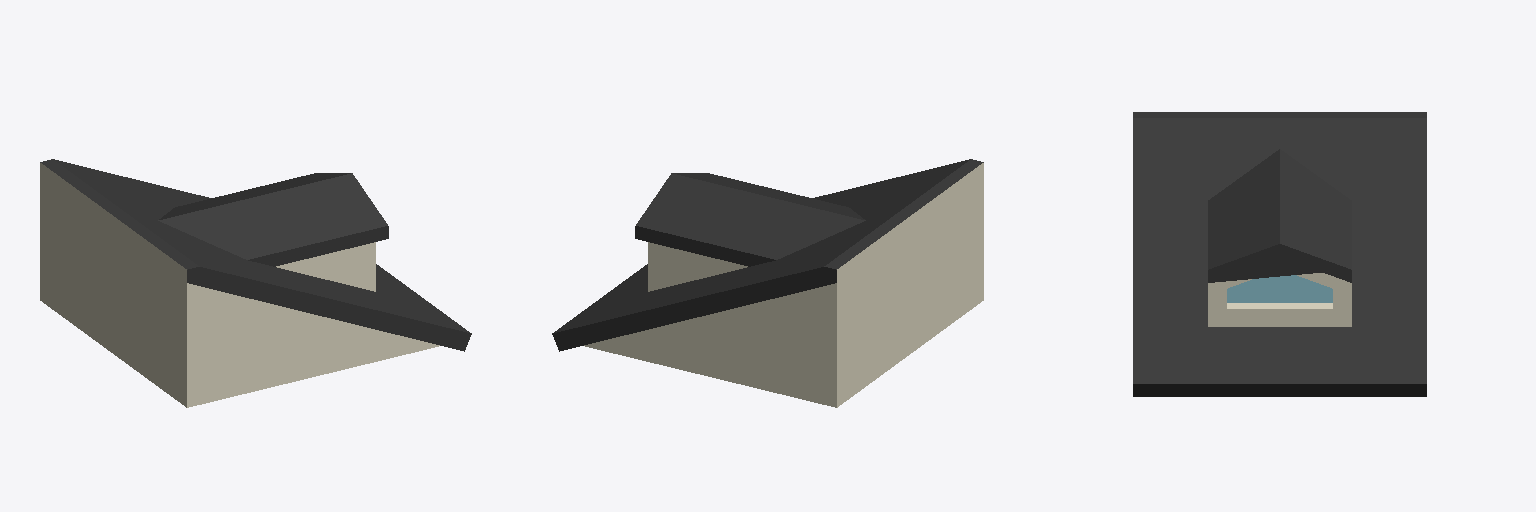
The model's file is modularBuildings_063.obj.
The picture shows the model from 3 angles: view 1: azimuth 30°, elevation 25°; view 2: azimuth 150°, elevation 25°; view 3: azimuth 270°, elevation 25°; orthographic projection.
Parts seen in each view (by area): view 1: Mesh1_Group1_Model; view 2: Mesh1_Group1_Model; view 3: Mesh1_Group1_Model.
Boxes of the visible parts, box(x1,y1,x2,y2) form: Mesh1_Group1_Model: box(40, 159, 471, 407); Mesh1_Group1_Model: box(552, 159, 983, 407); Mesh1_Group1_Model: box(1133, 112, 1426, 396).
Bounding box in the file's own units: 1.12 × 0.5612 × 1.